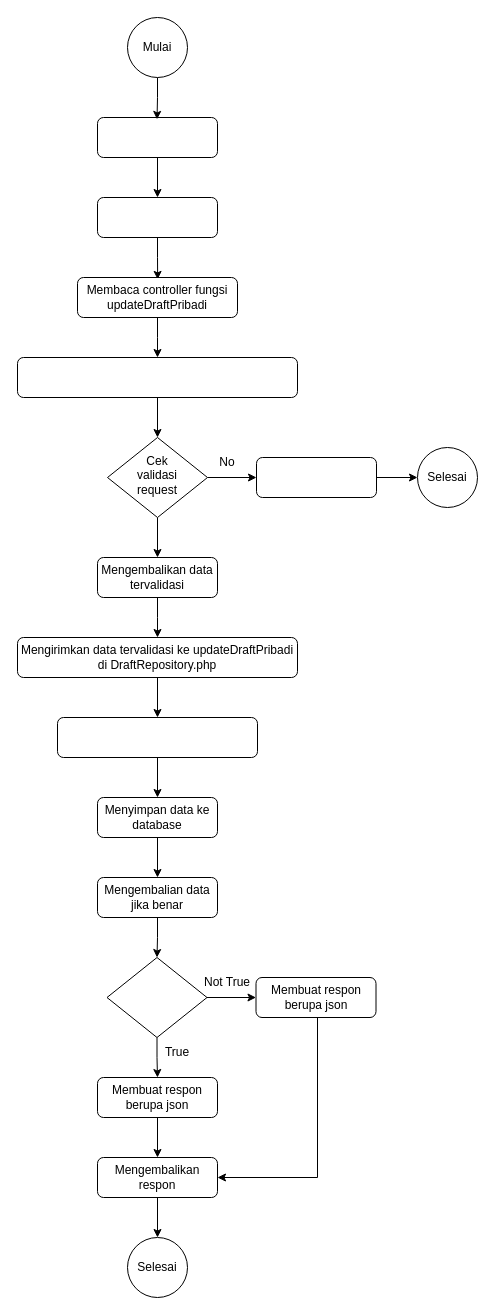
Some shapes in this 495 by 1315 pixel diagram are drawn without their labels. The shapes that lost their labels are listed below. From the top down, each one's box as (x1, y1, x2, y2) in pixels, then its label:
(96, 116, 218, 158): Menerima request
(96, 196, 218, 238): Mengakses route
(16, 356, 298, 398): Mengirimkan request ke cekUpdateDraftPribadi di ValidateInput.php
(256, 456, 376, 498): Mengembalikan pesan error
(56, 716, 258, 758): Mengirimkan data ke jsonContentPribadi
(106, 956, 207, 1038): Cek hasil pengembalian
